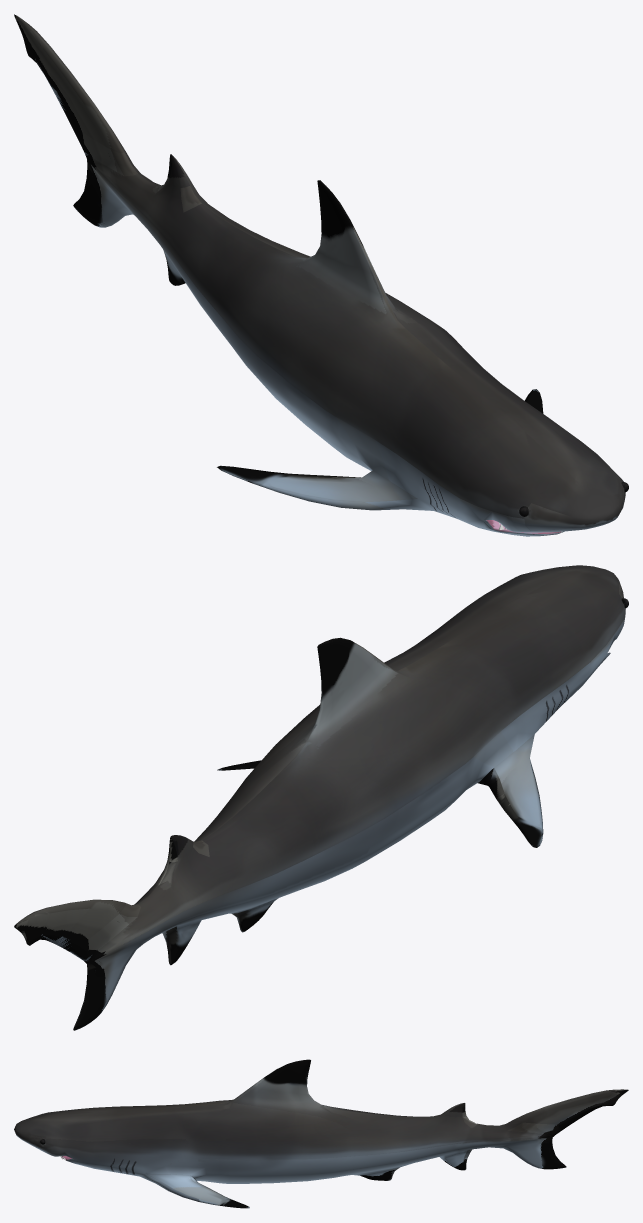
The model's file is Blacktip reef Shark.glb.
3 views of the same model, one above another, from view 1: azimuth 30°, elevation 25°; view 2: azimuth 150°, elevation 25°; view 3: azimuth 270°, elevation 25° (orthographic). The views are drawn at different scales.
Visible parts, largest first — view 1: Circle.001; view 2: Circle.001; view 3: Circle.001.
Boxes of the visible parts, box(x1,y1,x2,y2) form: Circle.001: box(14, 14, 628, 536); Circle.001: box(14, 565, 628, 1030); Circle.001: box(14, 1059, 628, 1208).
Size of the model in its own units: 3.53 by 2.44 by 11.22.
Materials: 2 (1 with a texture image).
